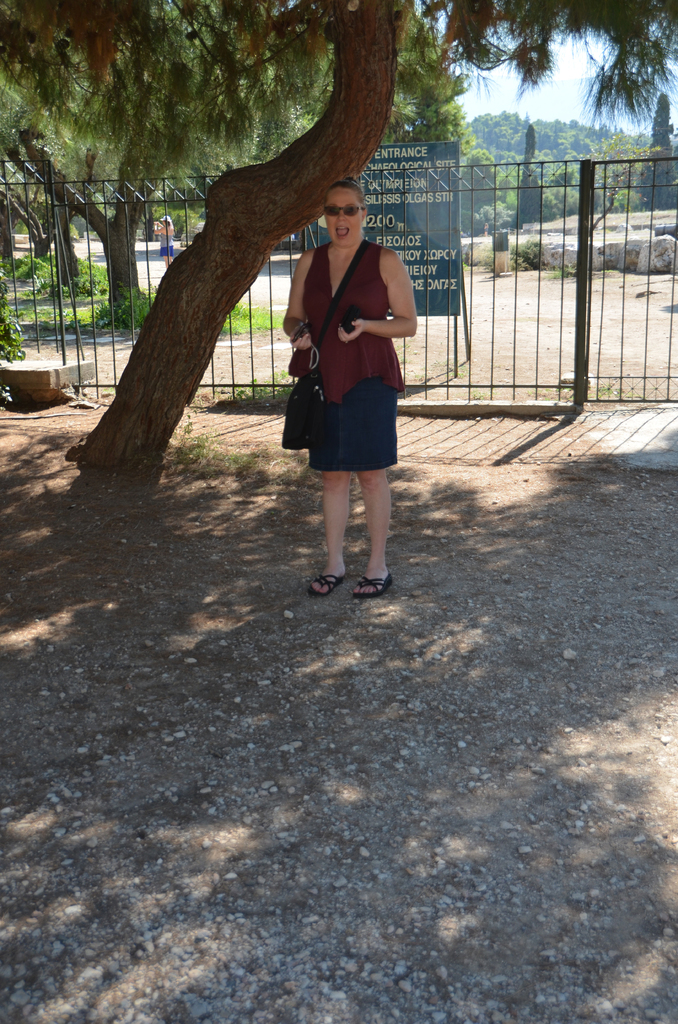Footwear: (355, 572, 394, 600), (309, 575, 344, 596)
